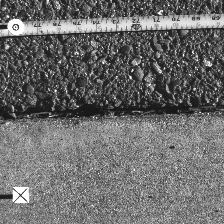circle: (7, 19, 24, 35)
crack: (1, 102, 223, 123)
square: (12, 187, 29, 203)
